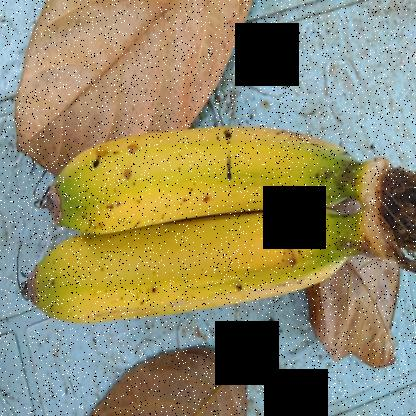freshripe: (41, 206, 339, 348)
ripe: (42, 78, 360, 247)
